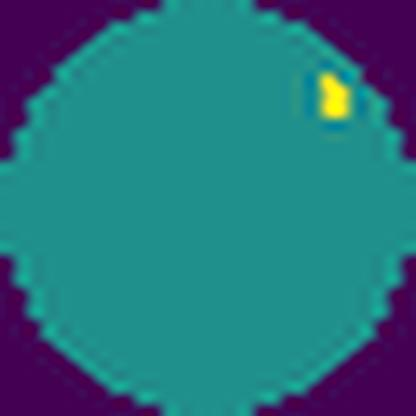Loc: (314, 68, 354, 126)
